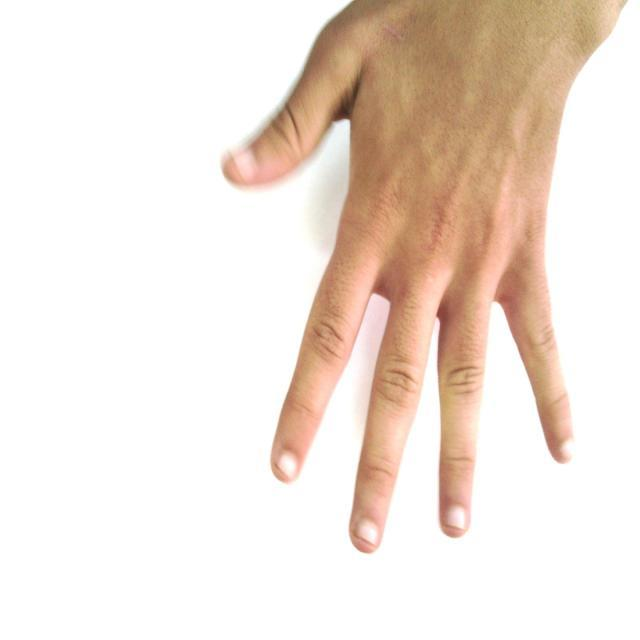Fingernail: (356, 519, 378, 543), (278, 452, 297, 479), (445, 507, 466, 529), (560, 441, 573, 460)
